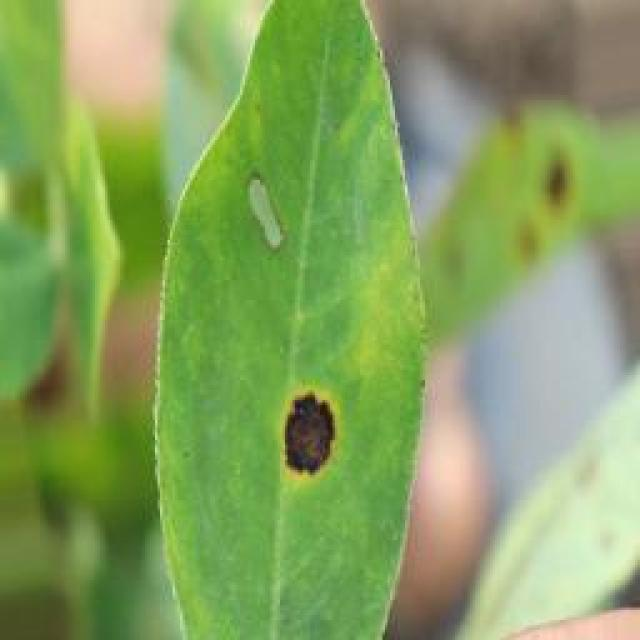Yellowish: (496, 123, 592, 270), (267, 363, 354, 485)
